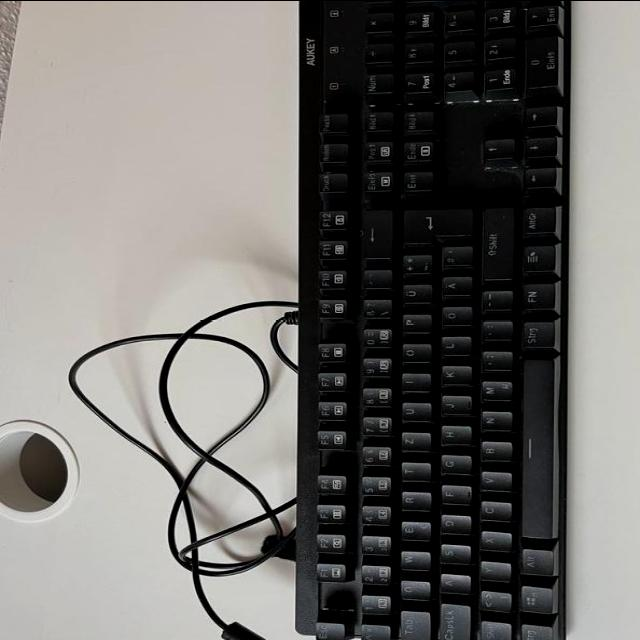0: (361, 328, 392, 348)
1: (357, 595, 391, 616)
2: (357, 565, 391, 586)
3: (357, 535, 391, 557)
4: (360, 506, 394, 528)
5: (360, 476, 394, 498)
6: (358, 445, 392, 467)
7: (358, 416, 392, 437)
8: (361, 387, 392, 407)
9: (360, 358, 391, 378)
a: (436, 574, 470, 596)
accent: (360, 270, 391, 290)
ae: (439, 277, 471, 299)
alt-left: (518, 549, 552, 577)
altgr-right: (519, 321, 553, 351)
b: (477, 441, 511, 463)
c: (476, 502, 510, 523)
caret: (356, 625, 389, 640)
comma: (478, 351, 512, 373)
d: (436, 514, 470, 535)
del: (359, 210, 391, 261)
e: (398, 522, 429, 542)
enter: (399, 209, 473, 243)
f: (438, 485, 469, 505)
g: (436, 455, 470, 477)
h: (438, 426, 470, 447)
hash: (438, 246, 472, 270)
i: (398, 373, 429, 393)
j: (438, 395, 470, 417)
k: (437, 366, 471, 388)
keyboard: (290, 0, 578, 640)
l: (438, 336, 470, 357)
less: (476, 592, 510, 614)
m: (478, 381, 512, 403)
minus: (478, 291, 512, 312)
n: (477, 411, 511, 433)
o: (399, 344, 430, 365)
oe: (439, 307, 471, 328)
p: (399, 315, 430, 336)
plus: (399, 255, 433, 277)
point: (478, 321, 512, 342)
q: (396, 580, 430, 602)
r: (398, 492, 429, 512)
s: (436, 544, 470, 565)
shift-left: (476, 622, 510, 640)
shift-lock: (435, 604, 469, 640)
shift-right: (478, 207, 512, 282)
space: (518, 358, 552, 541)
ss: (360, 299, 391, 319)
strg-left: (517, 625, 550, 640)
strg-right: (520, 207, 554, 236)
t: (398, 462, 429, 482)
tab: (397, 611, 429, 640)
u: (398, 402, 430, 423)
ue: (399, 284, 433, 306)
v: (477, 472, 511, 493)
w: (397, 552, 429, 572)
x: (477, 531, 511, 552)
y: (478, 561, 510, 583)
z: (398, 432, 429, 452)
